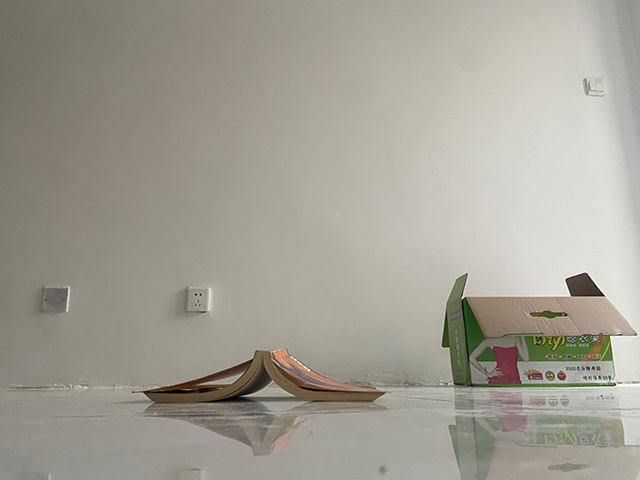book: (129, 345, 389, 405)
